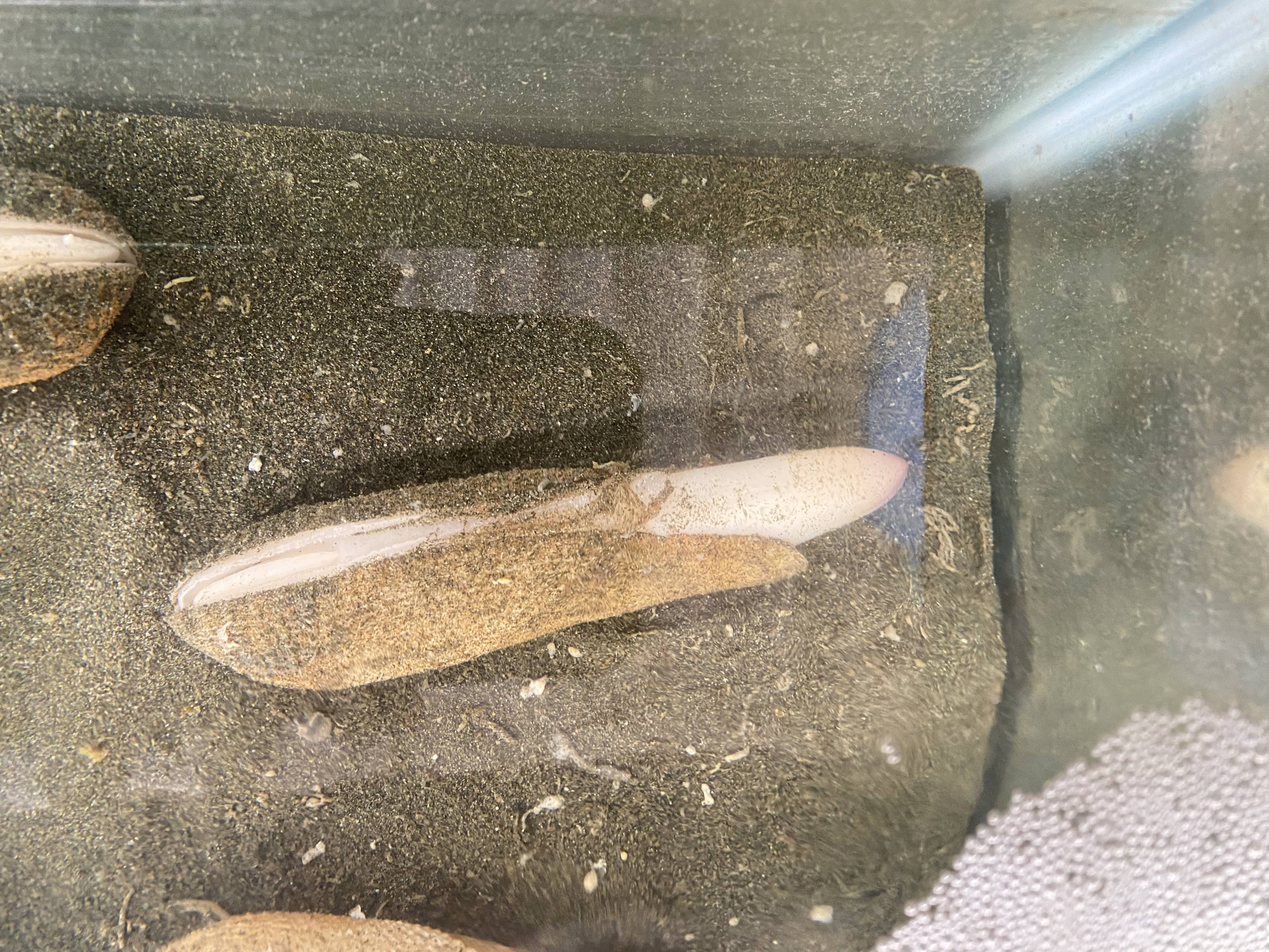Healthy: (167, 447, 907, 689)
